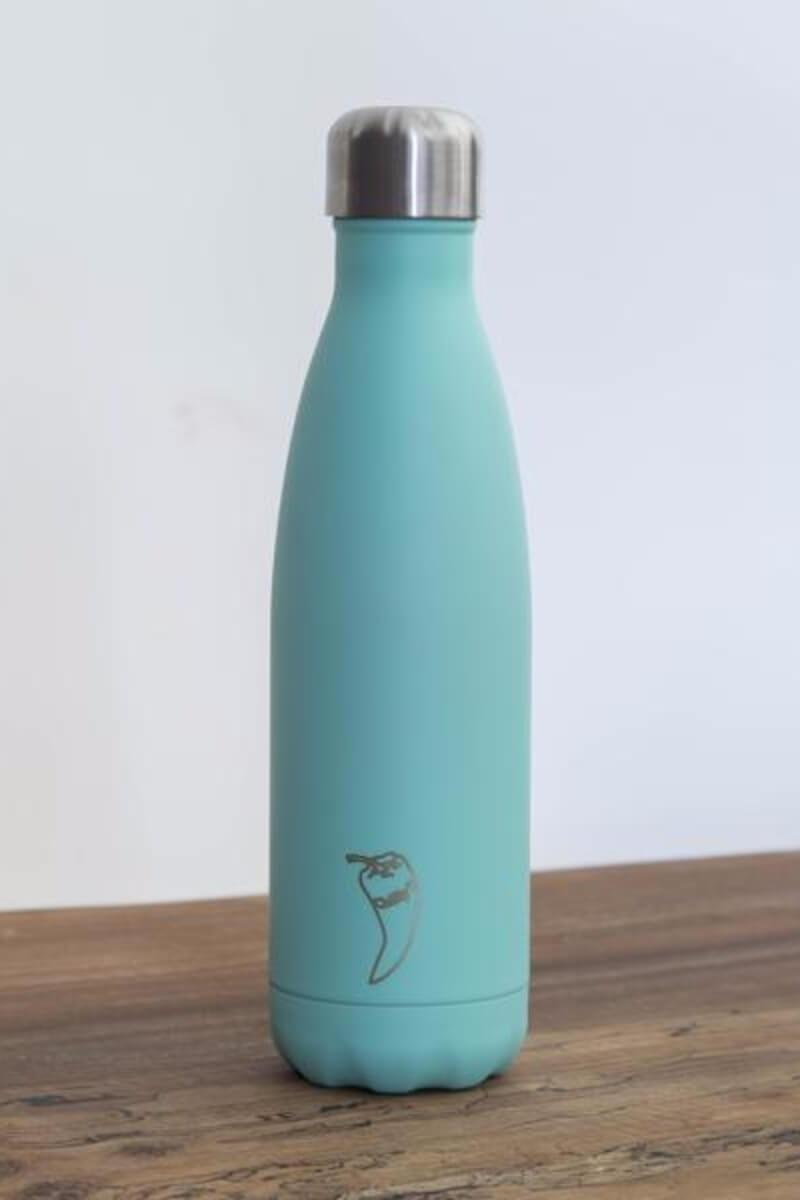gym bottle: (258, 100, 544, 1100)
